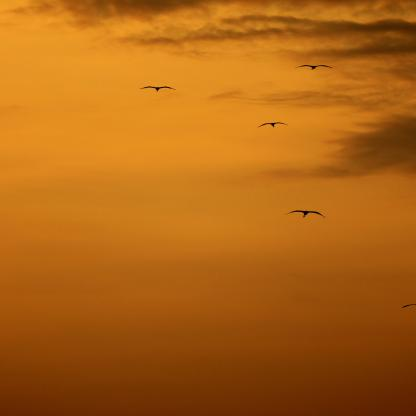bird: (284, 210, 325, 219), (295, 64, 333, 71), (140, 86, 176, 92), (258, 122, 289, 128)
